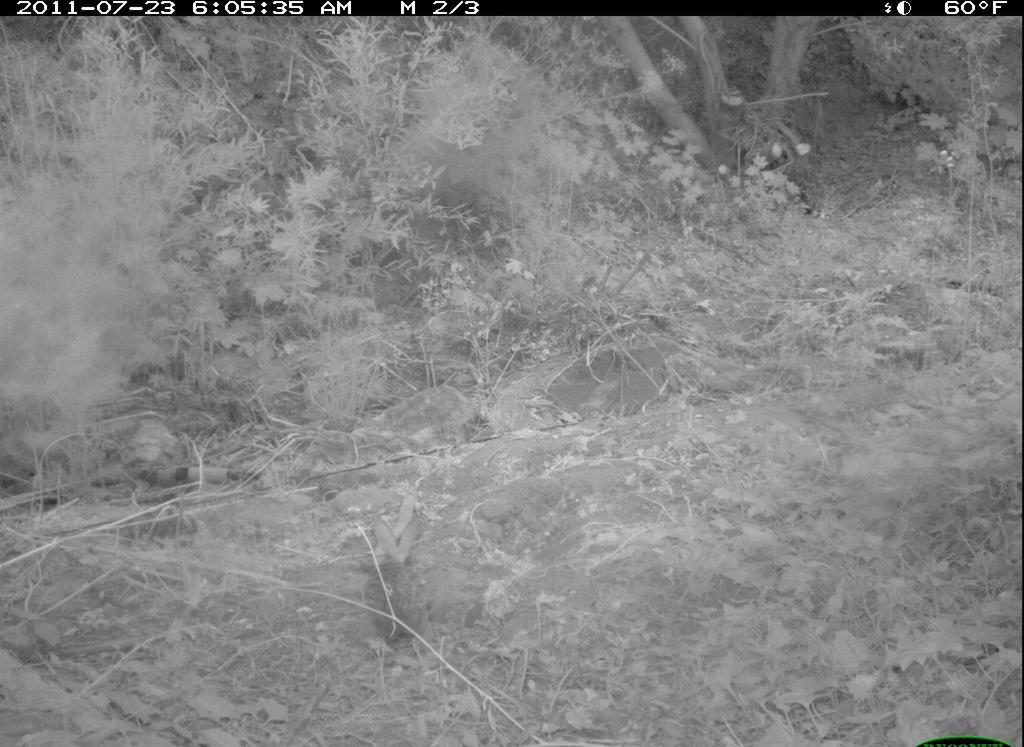rabbit: (358, 504, 444, 652)
